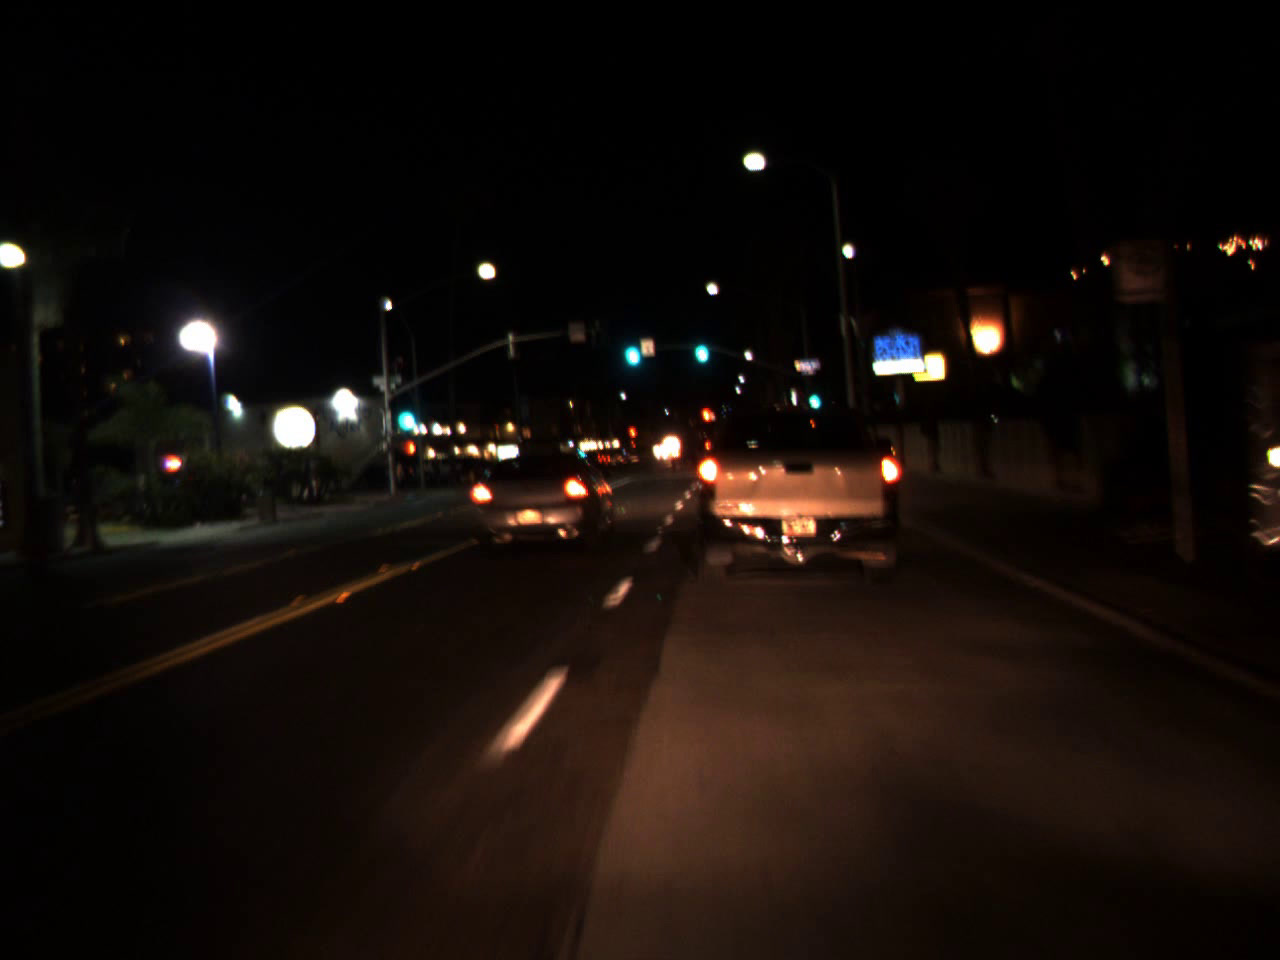go: (391, 385, 418, 439), (688, 318, 713, 372), (619, 322, 644, 373), (803, 374, 824, 416)
